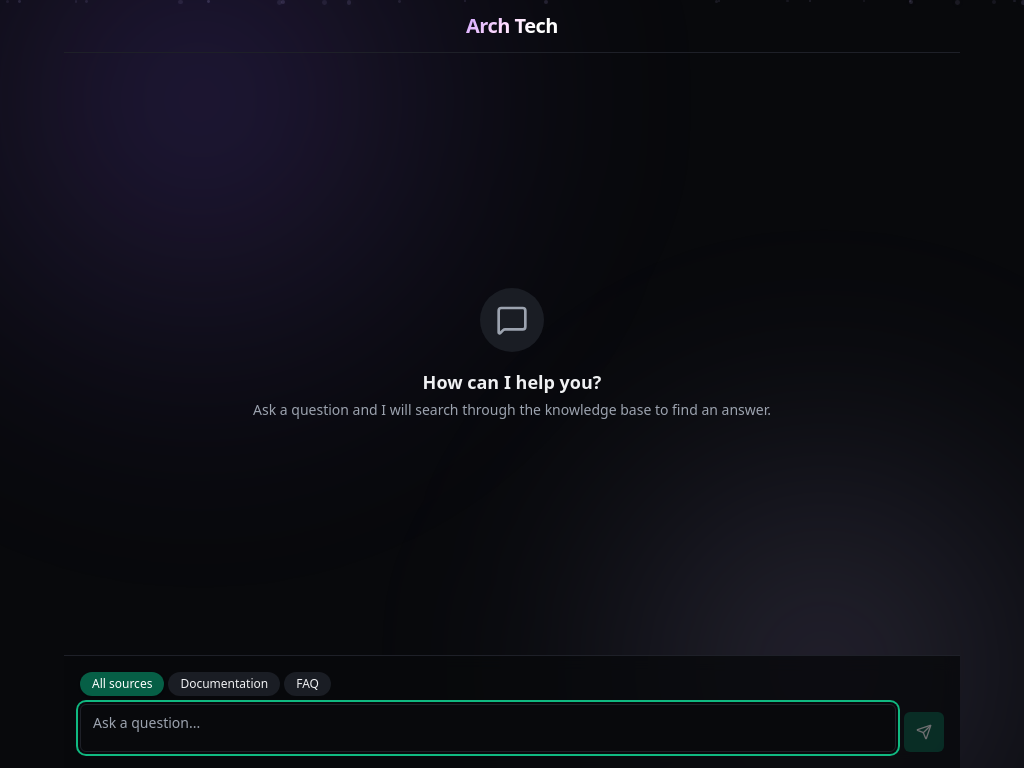
it: ChatPage › sends a question and renders bot response
Type "What is the return policy?" into the text box with placeholder "Ask a question..." at (488, 728), box [80, 704, 896, 752]
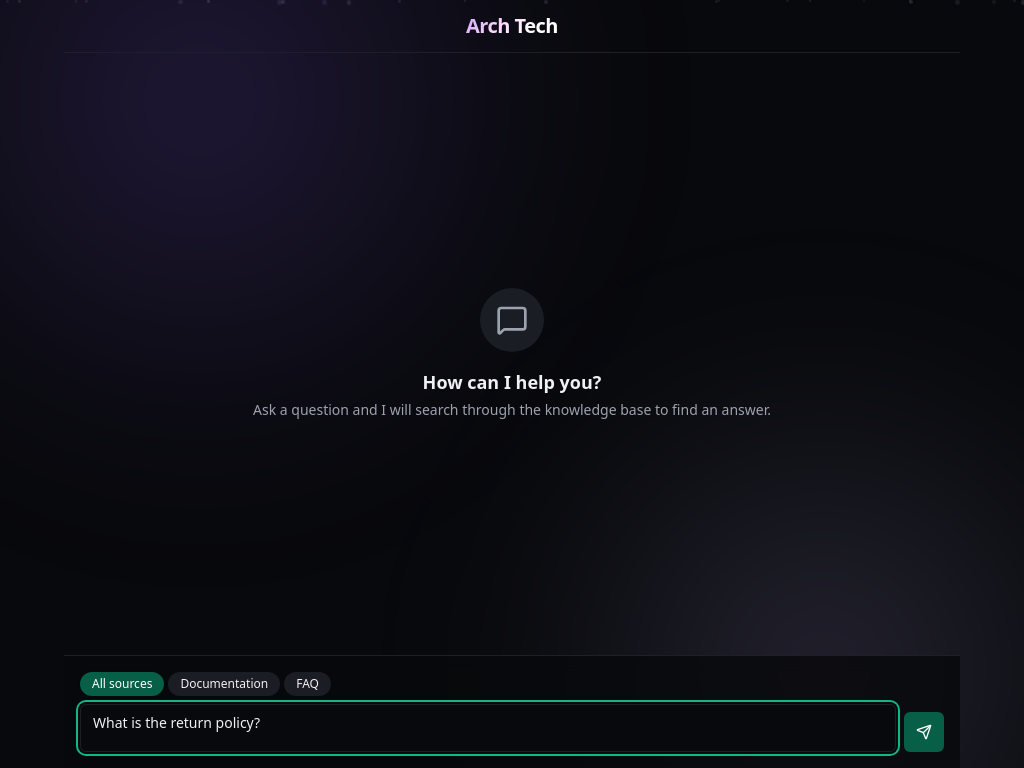
Click the button named "Send message" at (924, 732), box [904, 712, 944, 752]
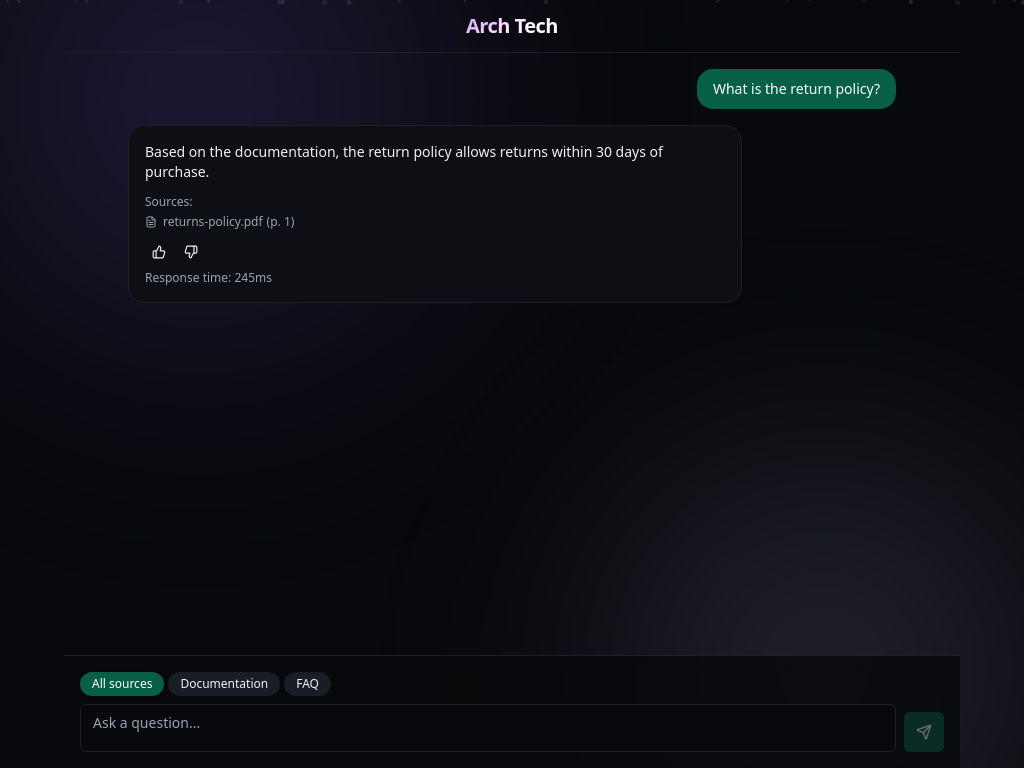
Expected: the text "What is the return policy?" is shown, [713, 79, 880, 99]
Expected: the text "return policy allows" is shown, [145, 142, 666, 181]
Expected: the text "returns-policy.pdf" is shown, [163, 213, 263, 230]
